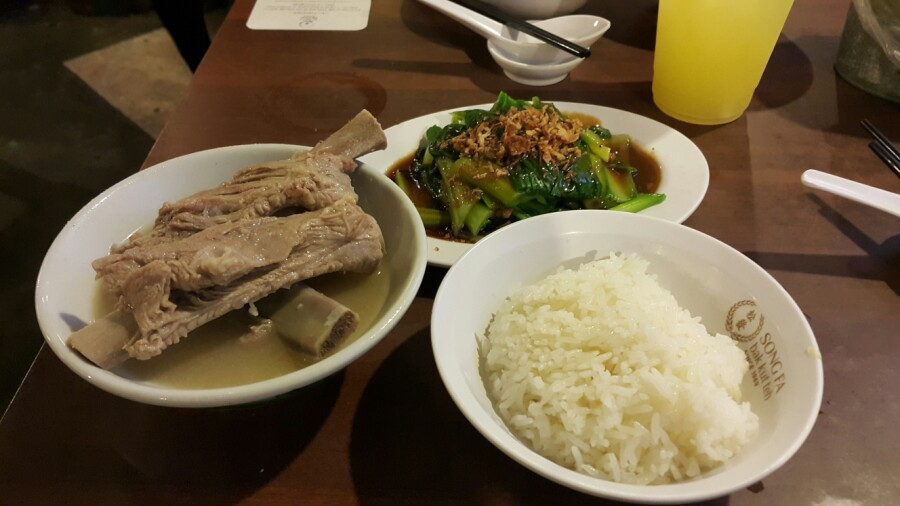chopped lettuce: (425, 98, 618, 203)
plain rice: (507, 273, 743, 453)
